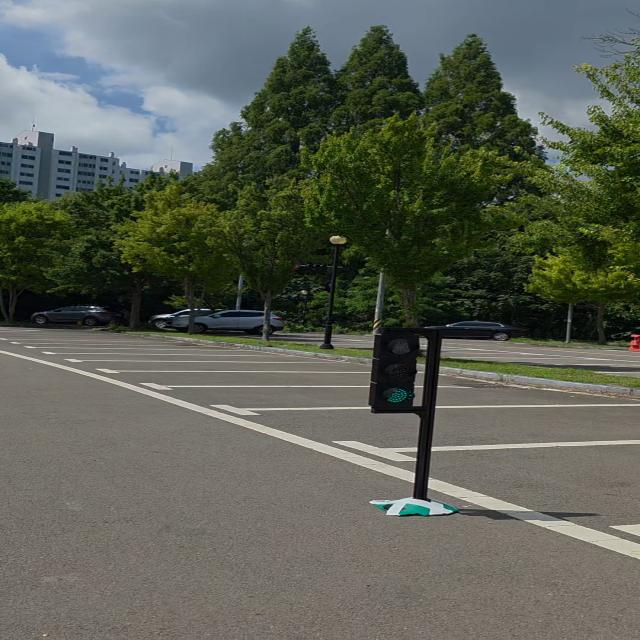green: (369, 330, 430, 411)
